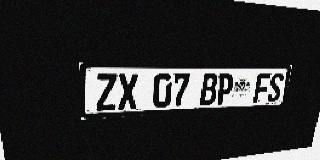0: (152, 73, 172, 108)
7: (171, 73, 190, 107)
B: (199, 73, 219, 106)
F: (253, 73, 271, 103)
P: (215, 73, 234, 105)
S: (266, 73, 284, 102)
X: (118, 74, 138, 110)
Z: (95, 74, 117, 111)
